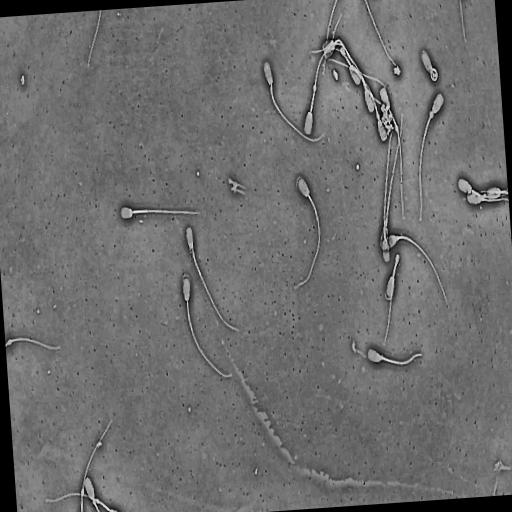coiled-tail: (430, 69, 437, 81)
dirt-particles: (380, 103, 395, 137), (20, 73, 26, 87)
distal-droplet: (6, 336, 62, 352), (81, 487, 85, 496), (395, 124, 398, 132), (313, 85, 316, 92), (8, 340, 12, 345), (96, 499, 99, 504)
folded-tail: (340, 47, 361, 77), (385, 277, 394, 342), (393, 255, 399, 277), (343, 52, 350, 63)
loose-tail: (362, 0, 402, 71), (321, 0, 340, 81), (84, 10, 105, 73)
normal: (185, 224, 240, 333), (327, 56, 388, 143), (304, 11, 344, 137), (183, 277, 232, 379), (264, 62, 324, 142), (383, 234, 448, 304), (378, 112, 404, 252), (380, 87, 406, 222), (79, 417, 114, 512), (419, 91, 444, 223), (296, 175, 321, 288), (381, 126, 393, 265), (45, 491, 122, 512), (384, 254, 400, 347), (120, 206, 198, 220), (339, 45, 363, 87), (421, 49, 438, 83), (85, 478, 100, 512)
proximal-droplet: (429, 111, 434, 119), (384, 219, 388, 227), (377, 113, 380, 120), (395, 235, 399, 240), (93, 498, 96, 504)
